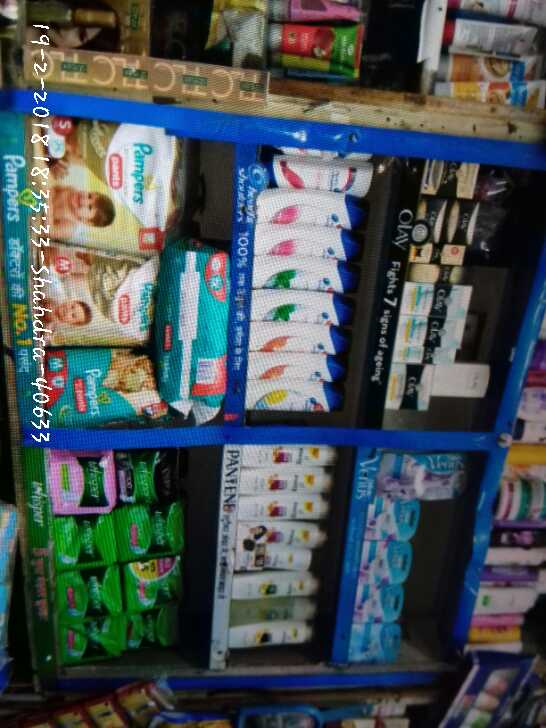venus: (373, 454, 464, 497), (346, 623, 404, 665), (360, 579, 404, 623), (373, 497, 416, 540), (360, 547, 414, 579)
